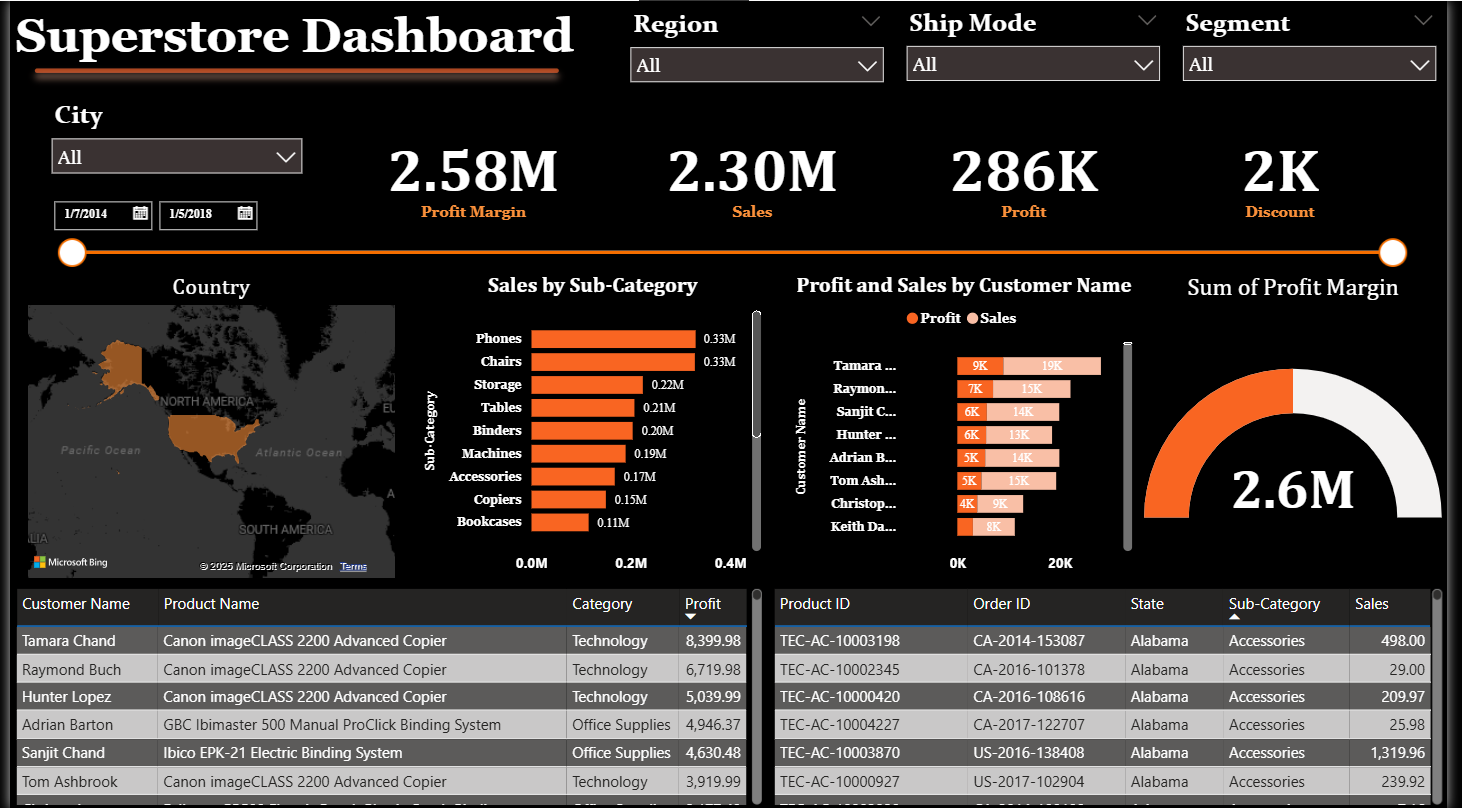

What the dashboard file says about the page in this screenshot:
{"tool":"powerbi","page":{"name":"Page 1","canvas":[1280,720],"ordinal":0},"visuals":[{"type":"textbox","box":[0,0,541.7,105],"z":0},{"type":"slicer","fields":{"Values":["Superstore.Region"]},"box":[541.7,1.2,246.1,84.5],"z":1000},{"type":"slicer","fields":{"Values":["Superstore.Ship Mode"]},"box":[787.8,0,246.1,85.7],"z":2000},{"type":"slicer","fields":{"Values":["Superstore.Segment"]},"box":[1033.9,0,246.1,80.8],"z":3000},{"type":"tableEx","fields":{"Values":["Superstore.Customer Name","Superstore.Product Name","Superstore.Category","Sum(Superstore.Profit)"]},"box":[0,518.8,674.4,201.5],"z":4000},{"type":"tableEx","fields":{"Values":["Superstore.Product ID","Superstore.Order ID","Superstore.State","Superstore.Sub-Category","Sum(Superstore.Sales)"]},"box":[674.4,518.8,605.6,201.5],"z":5000},{"type":"shape","box":[10.9,1.2,488.6,121.9],"z":6000},{"type":"gauge","fields":{"Y":["Sum(Superstore.Profit Margin)"]},"box":[1005,241.3,275.1,279.9],"z":7000},{"type":"barChart","fields":{"Category":["Superstore.Customer Name"],"Y":["Sum(Superstore.Profit)","Sum(Superstore.Sales)"]},"box":[694.9,241.3,310.1,277.5],"z":8000},{"type":"barChart","fields":{"Category":["Superstore.Sub-Category"],"Y":["Sum(Superstore.Sales)"]},"box":[364.3,241.3,310.1,277.5],"z":9000},{"type":"filledMap","fields":{"Category":["Superstore.Country"]},"box":[10.9,241.3,336.6,277.5],"z":10000},{"type":"slicer","fields":{"Values":["Superstore.Ship Date"]},"box":[26.5,167.7,1225.7,73.6],"z":14000},{"type":"slicer","fields":{"Values":["Superstore.City"]},"box":[26.5,82,243.7,82],"z":15000},{"type":"card","fields":{"Values":["Sum(Superstore.Profit Margin)"]},"box":[325.7,105,173.7,100.1],"z":15001},{"type":"card","fields":{"Values":["Sum(Superstore.Sales)"]},"box":[565.8,105,191.8,100.1],"z":15002},{"type":"card","fields":{"Values":["Sum(Superstore.Profit)"]},"box":[807.1,105,191.8,100.1],"z":15003},{"type":"card","fields":{"Values":["Sum(Superstore.Discount)"]},"box":[1036.3,105,189.4,100.1],"z":15004}]}

Visuals, with their boxes in screenshot pixels (x1, y1, x2, y2), scaled from the page's 1280x720 canvas onto the 1462x808 screenshot:
textbox: [0,0,619,118]
slicer - Superstore.Region: [619,1,900,96]
slicer - Superstore.Ship Mode: [900,0,1181,96]
slicer - Superstore.Segment: [1181,0,1461,91]
tableEx - Superstore.Customer Name x Superstore.Product Name: [0,582,770,807]
tableEx - Superstore.Product ID x Superstore.Order ID: [770,582,1461,807]
shape: [12,1,571,138]
gauge - Sum(Superstore.Profit Margin): [1148,271,1461,585]
barChart - Superstore.Customer Name x Sum(Superstore.Profit): [794,271,1148,582]
barChart - Superstore.Sub-Category x Sum(Superstore.Sales): [416,271,770,582]
filledMap - Superstore.Country: [12,271,397,582]
slicer - Superstore.Ship Date: [30,188,1430,271]
slicer - Superstore.City: [30,92,309,184]
card - Sum(Superstore.Profit Margin): [372,118,570,230]
card - Sum(Superstore.Sales): [646,118,865,230]
card - Sum(Superstore.Profit): [922,118,1141,230]
card - Sum(Superstore.Discount): [1184,118,1400,230]
